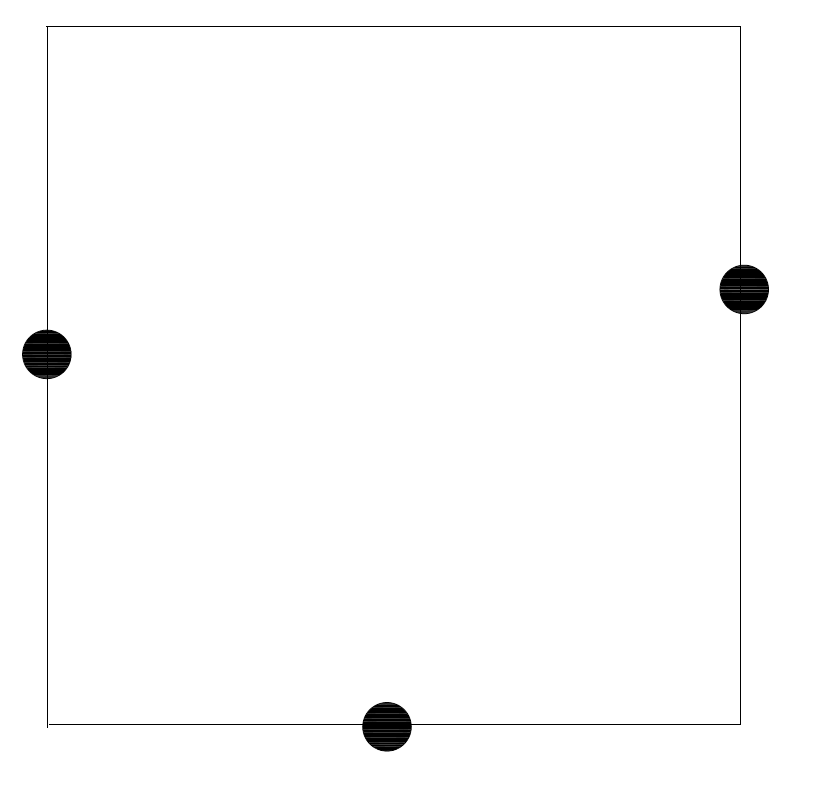35FP: (16, 324, 84, 387), (358, 695, 419, 761), (713, 263, 776, 319)
